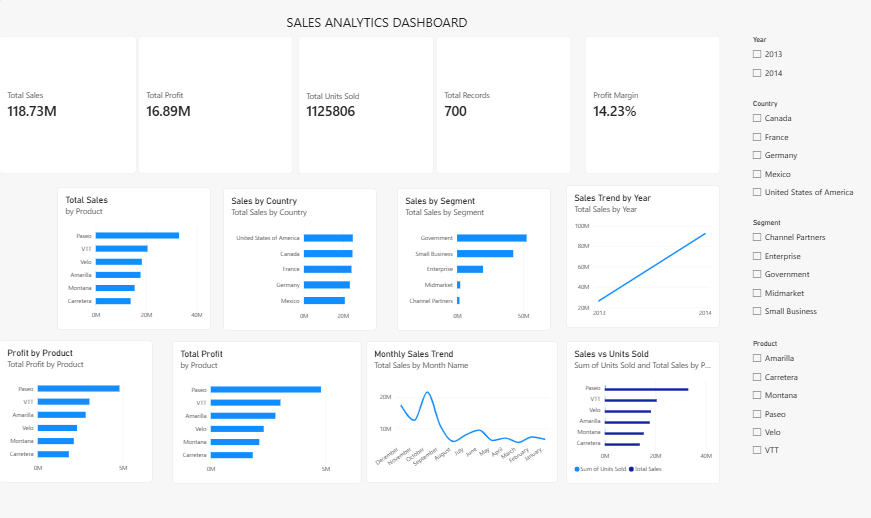

Layout of this report page (visuals, bound fields, positions):
{"tool":"powerbi","page":{"name":"Sales Dashboard","canvas":[1920,1080],"ordinal":0},"visuals":[{"type":"cardVisual","fields":{"Data":["cleaned_sales_data.Total Records"]},"box":[902.2,78.5,279.7,284.7],"z":0},{"type":"cardVisual","fields":{"Data":["cleaned_sales_data.Total Sales"]},"box":[0,78.5,284.7,284.7],"z":1000},{"type":"cardVisual","fields":{"Data":["cleaned_sales_data.Total Profit"]},"box":[287,78.5,320,284.7],"z":2000},{"type":"cardVisual","fields":{"Data":["cleaned_sales_data.Total Units Sold"]},"box":[617.3,78.5,280,285],"z":3000},{"type":"cardVisual","fields":{"Data":["cleaned_sales_data.Profit Margin"]},"box":[1209.8,78.5,279.7,284.7],"z":4000},{"type":"clusteredBarChart","fields":{"Category":["cleaned_sales_data.Product"],"Y":["cleaned_sales_data.Total Sales"]},"box":[119.7,390.2,317.5,294.8],"z":5000},{"type":"clusteredBarChart","title":"Sales by Country","fields":{"Category":["cleaned_sales_data.Country"],"Y":["cleaned_sales_data.Total Sales"]},"box":[462.5,392.3,317,295],"z":6000},{"type":"clusteredBarChart","title":"Sales by Segment","fields":{"Category":["cleaned_sales_data.Segment"],"Y":["cleaned_sales_data.Total Sales"]},"box":[821.7,392.3,317,295],"z":7000},{"type":"lineChart","title":"Sales Trend by Year","fields":{"Category":["cleaned_sales_data.Year"],"Y":["cleaned_sales_data.Total Sales"]},"box":[1170.6,386.1,317,295],"z":8000},{"type":"clusteredBarChart","title":"Profit by Product","fields":{"Category":["cleaned_sales_data.Product"],"Y":["cleaned_sales_data.Total Profit"]},"box":[0,706.1,317,295],"z":9000},{"type":"clusteredBarChart","fields":{"Category":["cleaned_sales_data.Product"],"Y":["cleaned_sales_data.Total Profit"]},"box":[357.2,708.1,390.6,294.8],"z":10000},{"type":"lineChart","title":"Monthly Sales Trend","fields":{"Category":["cleaned_sales_data.Month Name"],"Y":["cleaned_sales_data.Total Sales"]},"box":[757.7,708.1,396.4,293.2],"z":11000},{"type":"slicer","fields":{"Values":["cleaned_sales_data.Year"]},"box":[1548.4,78.5,355.1,119.7],"z":12000},{"type":"slicer","fields":{"Values":["cleaned_sales_data.Country"]},"box":[1548.4,210.6,355.1,305.5],"z":13000},{"type":"slicer","fields":{"Values":["cleaned_sales_data.Segment"]},"box":[1548.4,456.3,305.5,225],"z":14000},{"type":"slicer","fields":{"Values":["cleaned_sales_data.Product"]},"box":[1548.4,706.1,317.9,260.1],"z":15000},{"type":"textbox","box":[101.2,31,1358.5,47.5],"z":16000},{"type":"clusteredBarChart","title":"Sales vs Units Sold","fields":{"Category":["cleaned_sales_data.Product"],"Y":["Sum(cleaned_sales_data.Units Sold)","cleaned_sales_data.Total Sales"]},"box":[1170.6,708.1,317,285],"z":17000}]}

Visuals, with their boxes on the page's 1920x1080 design canvas (x1, y1, x2, y2). These are canvas units, not pixel positions in the 871x518 screenshot, which may show the page scaled, cropped or inside an application window:
cardVisual - cleaned_sales_data.Total Records: [x1=902, y1=78, x2=1182, y2=363]
cardVisual - cleaned_sales_data.Total Sales: [x1=0, y1=78, x2=285, y2=363]
cardVisual - cleaned_sales_data.Total Profit: [x1=287, y1=78, x2=607, y2=363]
cardVisual - cleaned_sales_data.Total Units Sold: [x1=617, y1=78, x2=897, y2=364]
cardVisual - cleaned_sales_data.Profit Margin: [x1=1210, y1=78, x2=1490, y2=363]
clusteredBarChart - cleaned_sales_data.Product x cleaned_sales_data.Total Sales: [x1=120, y1=390, x2=437, y2=685]
"Sales by Country" clusteredBarChart: [x1=462, y1=392, x2=780, y2=687]
"Sales by Segment" clusteredBarChart: [x1=822, y1=392, x2=1139, y2=687]
"Sales Trend by Year" lineChart: [x1=1171, y1=386, x2=1488, y2=681]
"Profit by Product" clusteredBarChart: [x1=0, y1=706, x2=317, y2=1001]
clusteredBarChart - cleaned_sales_data.Product x cleaned_sales_data.Total Profit: [x1=357, y1=708, x2=748, y2=1003]
"Monthly Sales Trend" lineChart: [x1=758, y1=708, x2=1154, y2=1001]
slicer - cleaned_sales_data.Year: [x1=1548, y1=78, x2=1904, y2=198]
slicer - cleaned_sales_data.Country: [x1=1548, y1=211, x2=1904, y2=516]
slicer - cleaned_sales_data.Segment: [x1=1548, y1=456, x2=1854, y2=681]
slicer - cleaned_sales_data.Product: [x1=1548, y1=706, x2=1866, y2=966]
textbox: [x1=101, y1=31, x2=1460, y2=78]
"Sales vs Units Sold" clusteredBarChart: [x1=1171, y1=708, x2=1488, y2=993]
